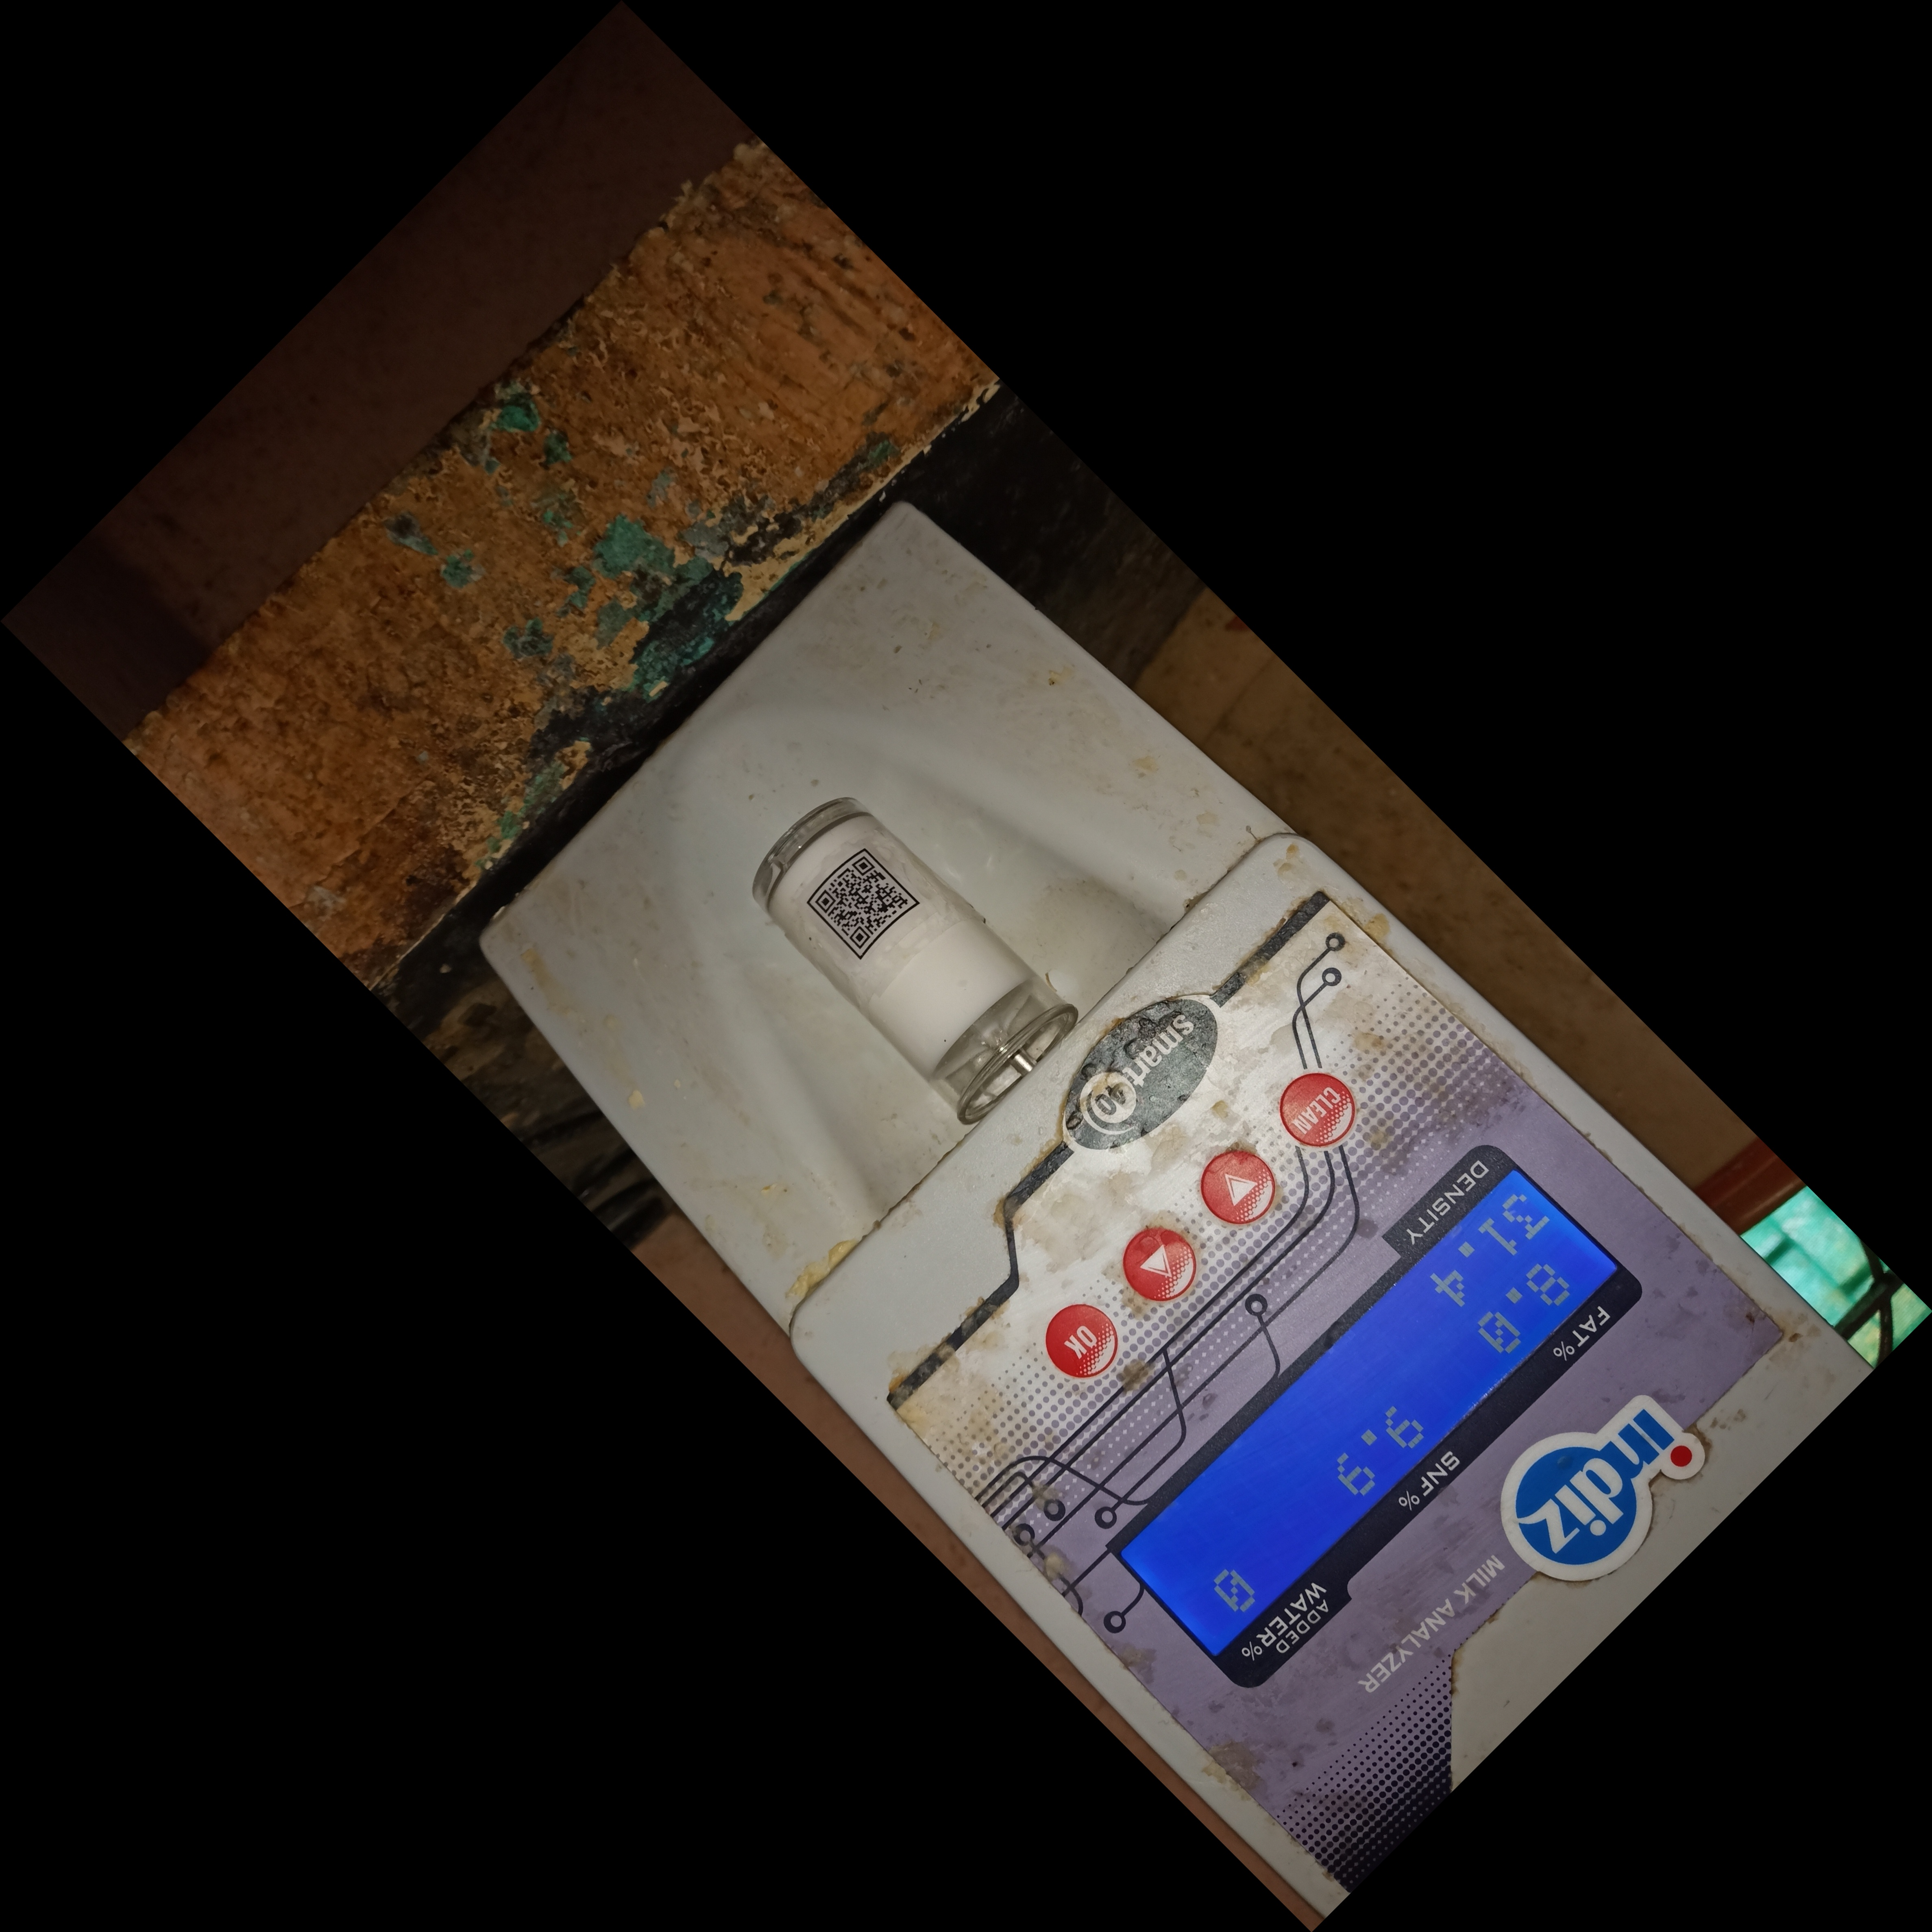lcd: (1090, 1100, 1672, 1695)
qr: (809, 832, 945, 966)
